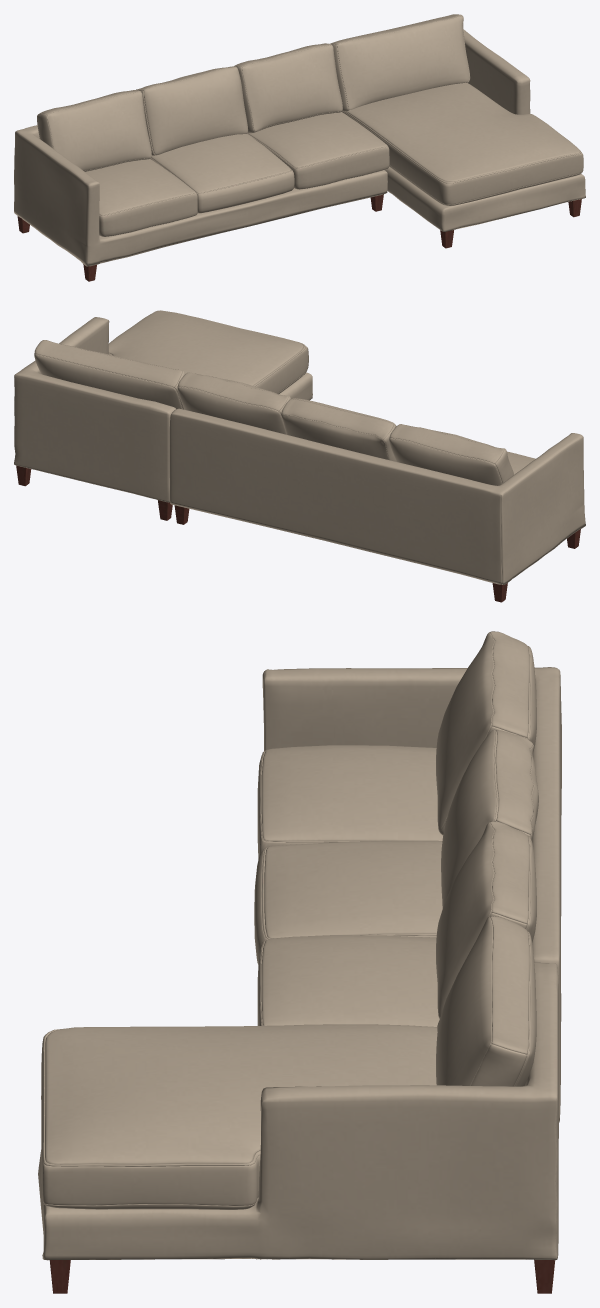
File: abo_B07B4MG9CQ.glb
3 renders of one model, top to bottom at view 1: azimuth 30°, elevation 25°; view 2: azimuth 150°, elevation 25°; view 3: azimuth 270°, elevation 25°, orthographic. The views are drawn at different scales.
Visible parts, largest first — view 1: RootNode; view 2: RootNode; view 3: RootNode.
Boxes of the visible parts, x1,y1,x2,y2 form: RootNode: (14,14,585,281); RootNode: (14,310,585,602); RootNode: (38,631,561,1293).
Size of the model in its own units: 3.19 by 0.8613 by 1.62.
1 material, 1 textured.
